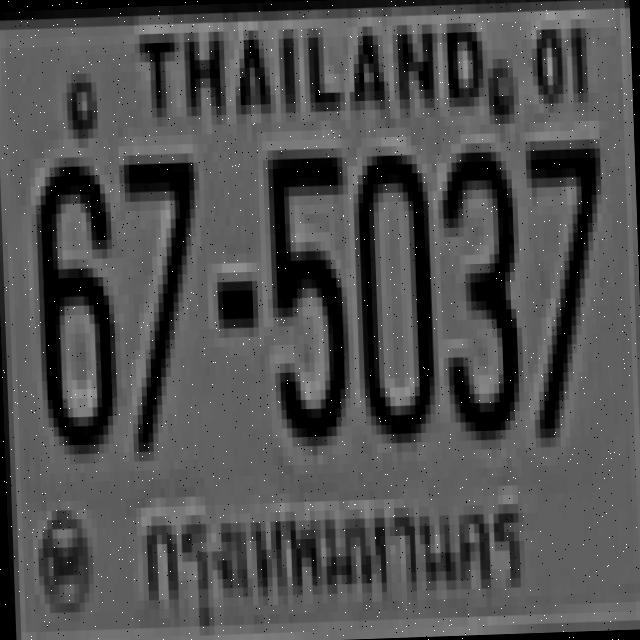0: (352, 144, 431, 434)
3: (436, 142, 520, 432)
5: (262, 138, 346, 438)
6: (29, 156, 113, 446)
7: (522, 130, 606, 428), (120, 148, 200, 447)
Bangkok: (128, 478, 536, 629)
